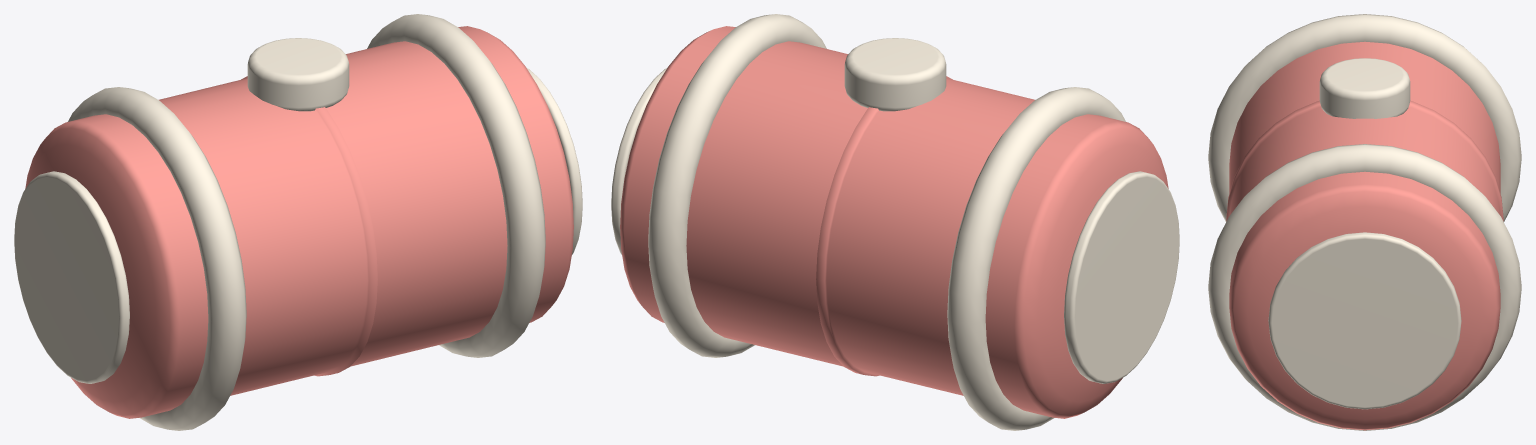
The model's file is MalletHead.glb.
3 views of the same model, side by side, from view 1: azimuth 30°, elevation 25°; view 2: azimuth 150°, elevation 25°; view 3: azimuth 270°, elevation 25° (orthographic). The views are drawn at different scales.
Parts seen in each view (by area): view 1: Head, Bands; view 2: Head, Bands; view 3: Bands, Head.
Part boxes in pixels (left/top/right/bottom): Head: left=25, top=26, right=573, bottom=418; Bands: left=14, top=14, right=582, bottom=430; Head: left=620, top=26, right=1168, bottom=418; Bands: left=611, top=14, right=1179, bottom=430; Bands: left=1208, top=14, right=1521, bottom=430; Head: left=1226, top=41, right=1503, bottom=430.
Bounding box in the file's own units: 7.9 × 5.3 × 5.2.
